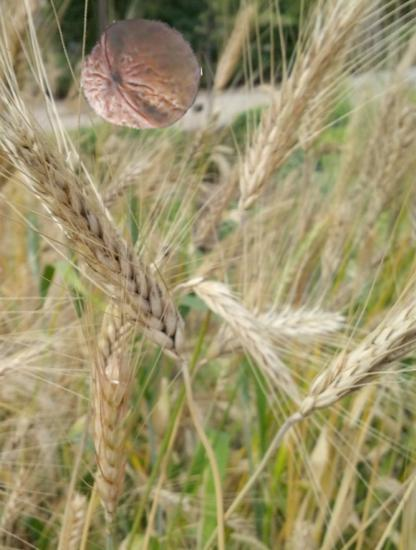Walnut: (80, 13, 203, 136)
